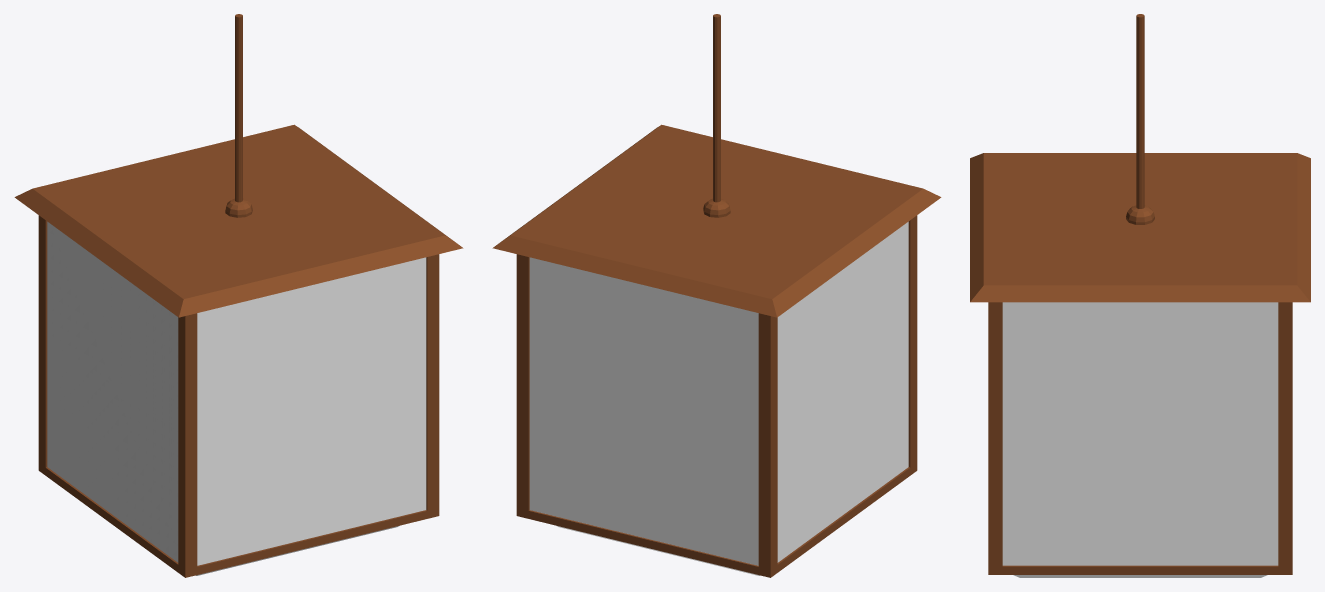
Rendered from Lantern_5.fbx.
3 renders of one model, left to right at view 1: azimuth 30°, elevation 25°; view 2: azimuth 150°, elevation 25°; view 3: azimuth 270°, elevation 25°, orthographic. The views are drawn at different scales.
Parts seen in each view (by area): view 1: Lantern_5; view 2: Lantern_5; view 3: Lantern_5.
Boxes of the visible parts, x1=… form: Lantern_5: x1=14, y1=14, x2=463, y2=577; Lantern_5: x1=492, y1=14, x2=941, y2=577; Lantern_5: x1=970, y1=14, x2=1310, y2=577.
Size of the model in its own units: 42.71 by 70.71 by 42.71.
